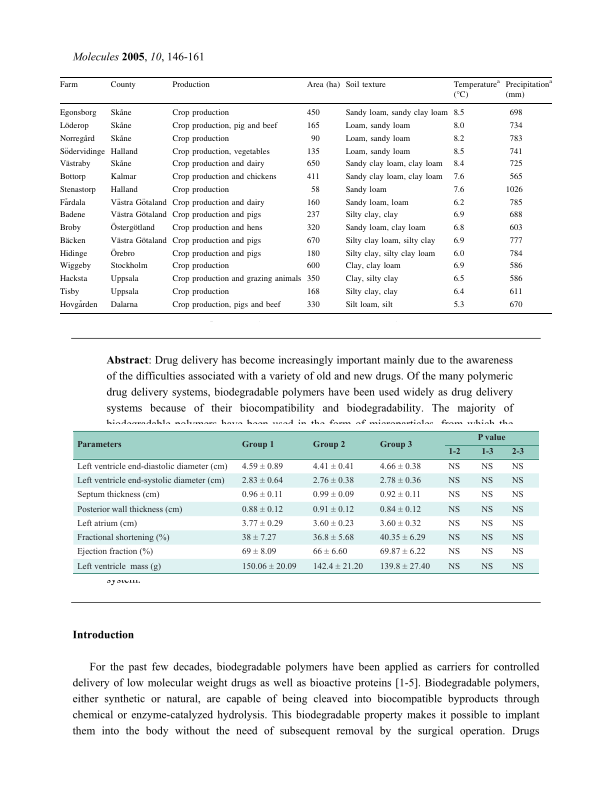borderless: (59, 75, 552, 313), (72, 429, 539, 573)
cell: (75, 462, 228, 472), (75, 476, 225, 486), (171, 274, 302, 284), (171, 300, 281, 310), (75, 505, 183, 515), (452, 78, 501, 100), (504, 78, 553, 100), (171, 121, 278, 131), (171, 172, 277, 182), (344, 109, 449, 119), (171, 147, 270, 157), (344, 160, 443, 170), (344, 172, 443, 182), (75, 533, 170, 543), (171, 160, 265, 170), (171, 198, 265, 208), (75, 490, 160, 501), (171, 223, 263, 233), (344, 236, 436, 246), (344, 249, 436, 259), (171, 211, 262, 221), (171, 236, 262, 246), (171, 249, 262, 259), (75, 562, 161, 572), (75, 547, 153, 558), (344, 223, 426, 233), (344, 121, 411, 131), (344, 134, 411, 144), (344, 147, 411, 157), (344, 198, 409, 208), (75, 519, 137, 529), (171, 109, 230, 119), (171, 134, 230, 144), (171, 185, 230, 195), (171, 262, 230, 272), (171, 287, 230, 297), (109, 198, 167, 208), (109, 211, 167, 221), (109, 236, 167, 246), (344, 262, 401, 272), (241, 562, 297, 572), (344, 274, 399, 284), (344, 211, 398, 221), (344, 287, 398, 297), (379, 547, 426, 558), (312, 562, 363, 572), (379, 562, 430, 572), (109, 222, 155, 233), (344, 300, 393, 310), (59, 147, 106, 157), (379, 533, 426, 543), (241, 490, 283, 501), (312, 490, 354, 501), (379, 490, 421, 501), (76, 441, 122, 451), (344, 185, 387, 195), (344, 80, 386, 90), (241, 462, 283, 472), (312, 462, 354, 472), (379, 462, 421, 472), (241, 476, 283, 486), (312, 476, 354, 486), (379, 476, 421, 486), (241, 505, 283, 515), (312, 505, 354, 515), (379, 505, 421, 515), (241, 519, 283, 529), (312, 519, 354, 529), (379, 519, 421, 529), (312, 533, 354, 543), (241, 547, 277, 558), (312, 547, 348, 558), (171, 80, 210, 90), (109, 262, 148, 272), (59, 300, 98, 310), (59, 109, 97, 119), (59, 185, 96, 195), (59, 134, 95, 144), (241, 533, 277, 543), (306, 80, 341, 90), (378, 441, 413, 451), (241, 441, 275, 451), (312, 441, 346, 451), (59, 262, 92, 272), (59, 160, 91, 170), (109, 247, 135, 259), (59, 121, 89, 131), (109, 274, 139, 284), (109, 287, 139, 297), (476, 434, 506, 444), (109, 147, 138, 157), (109, 185, 138, 195), (59, 249, 88, 259), (59, 274, 88, 284), (109, 300, 138, 310), (109, 172, 137, 182), (109, 80, 136, 90), (59, 172, 86, 182), (59, 198, 86, 208), (59, 211, 86, 221), (59, 236, 86, 246), (109, 108, 132, 119), (109, 159, 132, 170), (109, 121, 132, 131), (109, 134, 132, 144), (59, 223, 82, 233), (59, 287, 80, 297), (58, 80, 78, 90), (504, 185, 523, 195), (447, 490, 461, 501), (480, 490, 494, 501), (447, 547, 461, 558), (480, 547, 494, 558), (508, 109, 523, 119), (508, 121, 523, 131), (508, 134, 523, 144), (508, 147, 523, 157), (508, 160, 523, 170), (508, 172, 523, 182), (508, 198, 523, 208), (508, 211, 523, 221), (508, 223, 523, 233), (508, 236, 523, 246), (508, 249, 523, 259), (508, 262, 523, 272), (508, 274, 523, 284), (508, 287, 523, 297), (508, 300, 523, 310), (511, 490, 524, 501), (511, 547, 524, 558), (306, 109, 320, 119), (306, 121, 320, 131), (306, 147, 320, 157), (306, 160, 320, 170), (306, 172, 320, 182), (306, 198, 320, 208), (306, 211, 320, 221), (306, 223, 320, 233), (306, 236, 320, 246), (306, 249, 320, 259), (306, 262, 320, 272), (306, 274, 320, 284), (306, 287, 320, 297), (306, 300, 320, 310), (447, 448, 461, 458), (480, 448, 494, 458), (510, 448, 524, 458), (447, 462, 461, 472), (480, 462, 494, 472), (447, 476, 461, 486), (480, 476, 494, 486), (447, 505, 461, 515), (480, 505, 494, 515), (447, 519, 461, 529), (480, 519, 494, 529), (447, 533, 461, 543), (480, 533, 494, 543), (447, 562, 461, 572), (480, 562, 494, 572), (452, 109, 465, 119), (452, 121, 465, 131), (452, 134, 465, 144), (452, 147, 465, 157), (452, 160, 465, 170), (452, 172, 465, 182), (452, 185, 465, 195), (452, 198, 465, 208), (452, 211, 465, 221), (452, 223, 465, 233), (452, 236, 465, 246), (452, 249, 465, 259), (452, 262, 465, 272), (452, 274, 465, 284), (452, 287, 465, 297), (452, 300, 465, 310), (511, 462, 524, 472), (511, 476, 524, 486), (511, 505, 524, 515), (511, 519, 524, 529), (511, 533, 524, 543), (511, 562, 524, 572), (310, 134, 320, 144), (310, 185, 320, 195)
